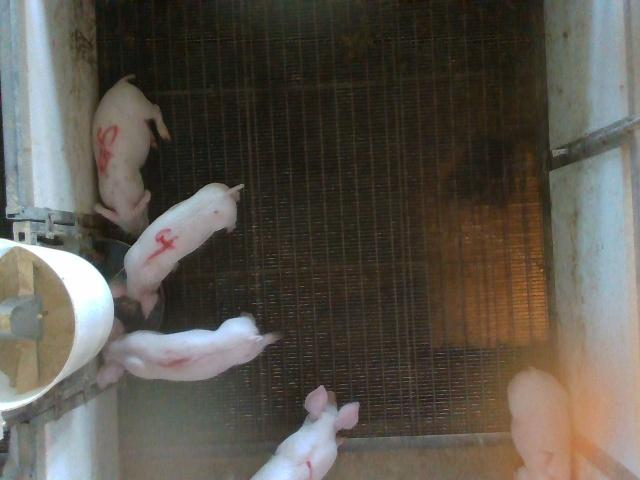pig-1: (96, 315, 280, 387)
pig-4: (111, 185, 243, 317)
pig-5: (92, 75, 170, 236)
